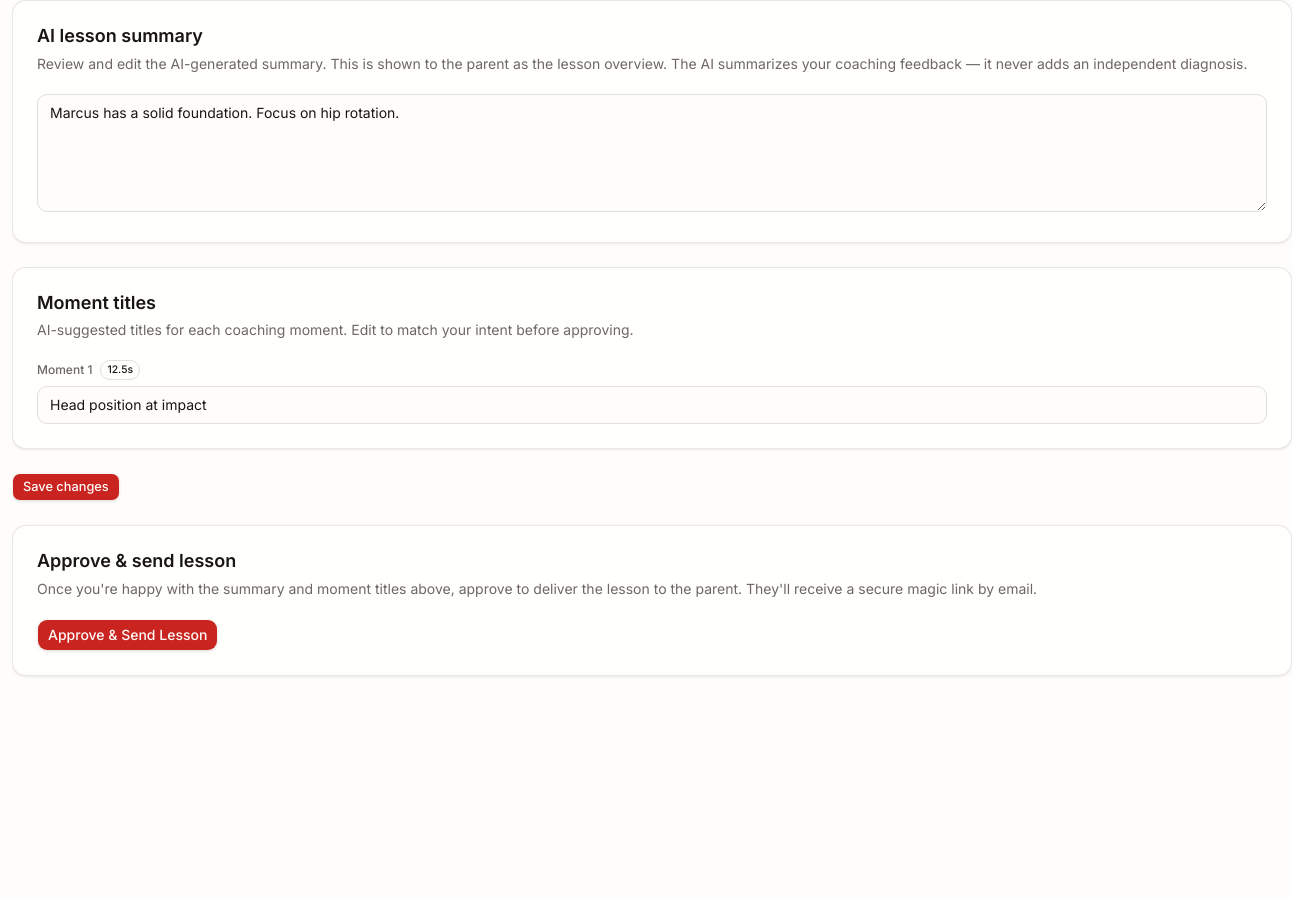
Scenario: AiReviewPanel — coach reviews/edits AI output (Wave 4 Sub-slice 3c-i) › disables the Save button while saving
Click the button "Save changes" at (66, 487), box [12,473,120,501]
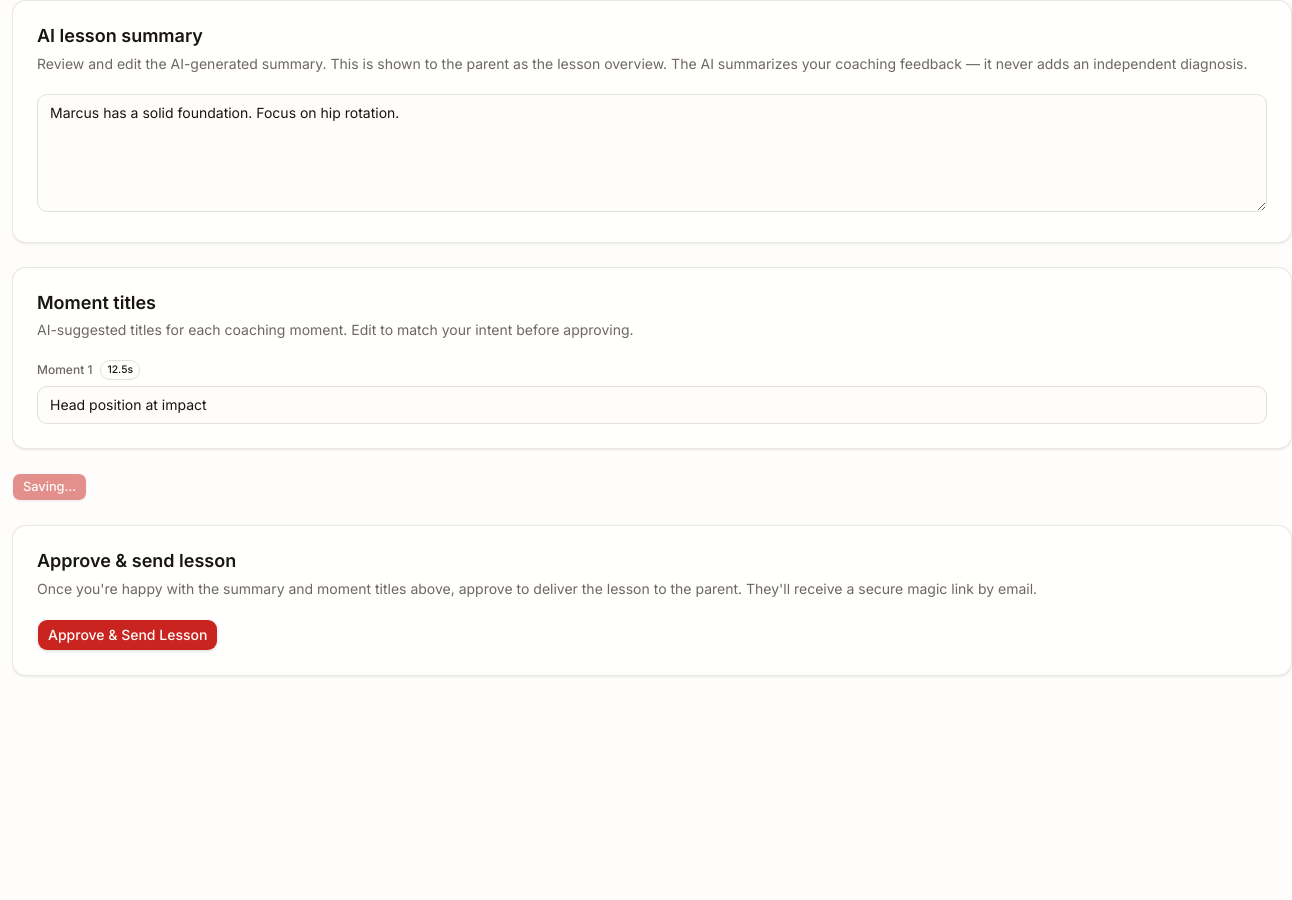
Expected: the button named "save changes" is disabled, [12,473,87,501]
